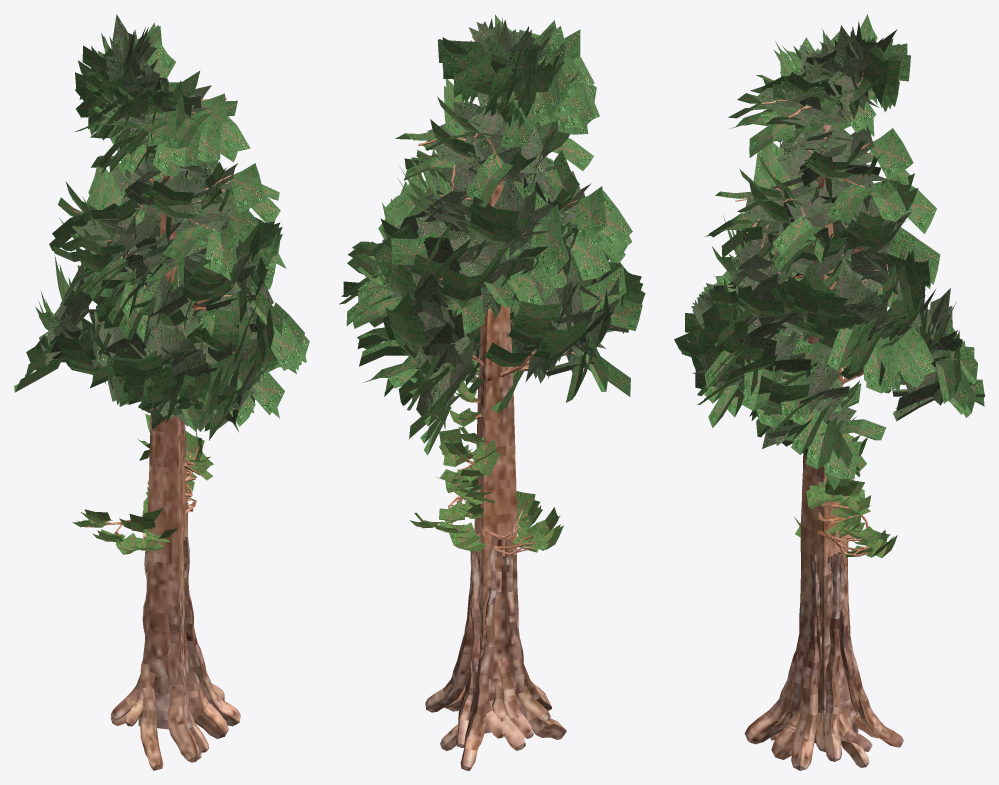
File: tree_4.obj
3 renders of one model, left to right at view 1: azimuth 30°, elevation 25°; view 2: azimuth 150°, elevation 25°; view 3: azimuth 270°, elevation 25°, orthographic. The views are drawn at different scales.
Visible parts, largest first — view 1: Sequoia5; view 2: Sequoia5; view 3: Sequoia5.
Boxes of the visible parts, <box> form: Sequoia5: <box>14,14,309,770</box>; Sequoia5: <box>339,14,645,770</box>; Sequoia5: <box>674,14,984,770</box>.
Size of the model in its own units: 1.87 by 4.71 by 1.83.
1 material, 1 textured.
